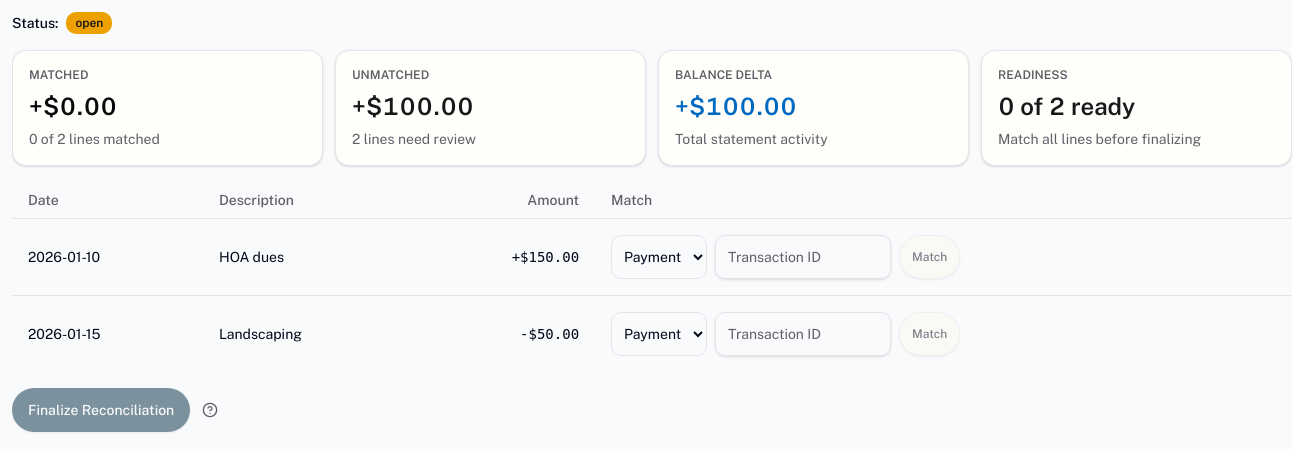
Test: ReconcileGrid › creates a payment match from a transaction id
Type "pay-1" into the field named "Transaction ID for HOA dues" at coordinates (803, 256), box [715,234,891,278]
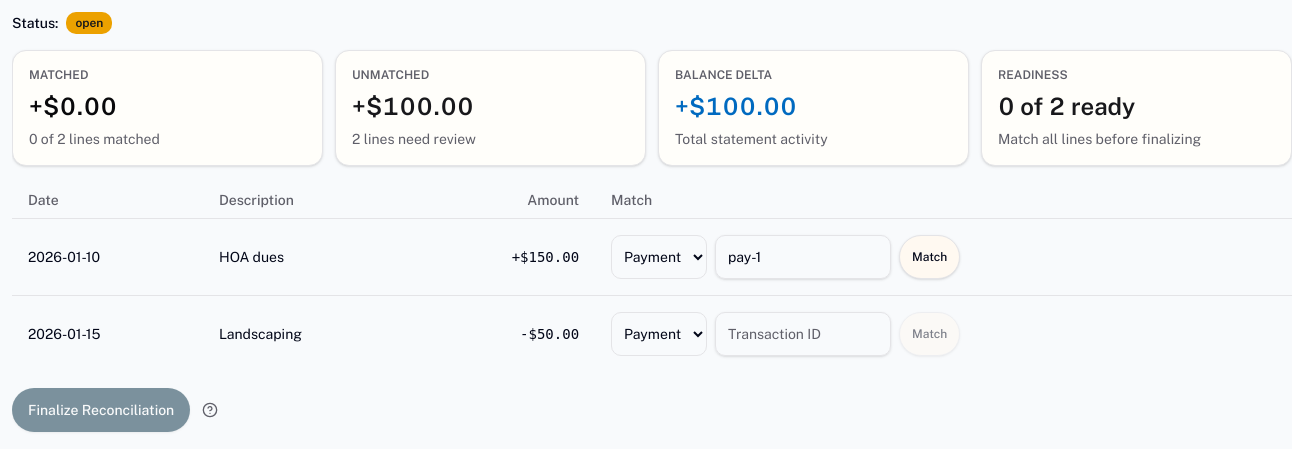
Click the button "Match" in the row of "2026-01-10" at coordinates (930, 256), box [899,234,960,278]
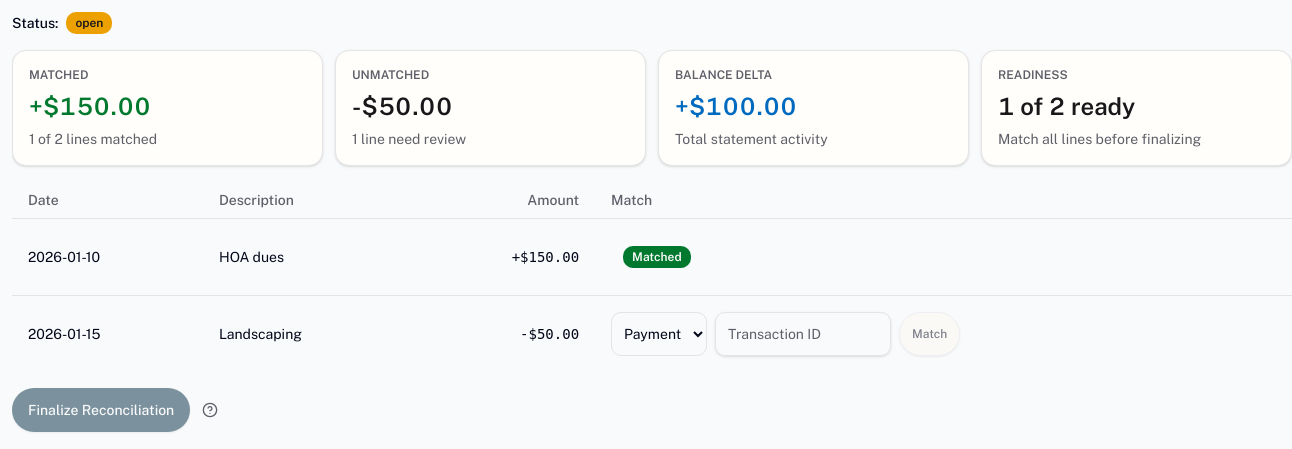
Expected: the button "Matched" is shown, [611,234,703,278]
